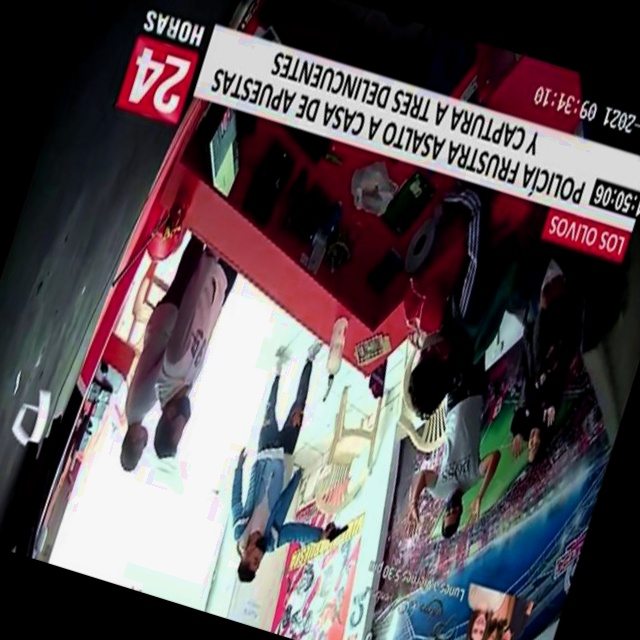gun: (313, 505, 361, 562)
